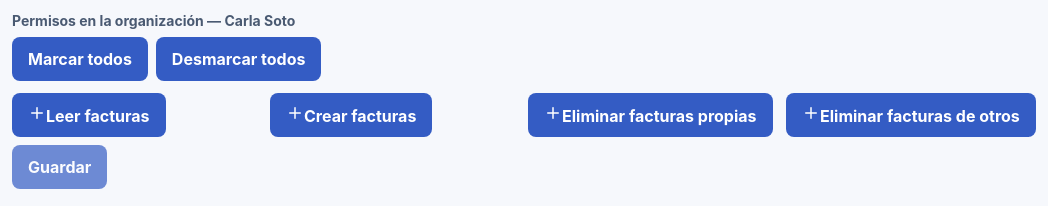
Scenario: MemberPermissionsEditor, saved mode › PUTs the four flags, locks the controls while pending and announces the result
The width and height of the screenshot is (1048, 206).
Click the button "Crear facturas".
click(351, 115)  # box [270, 93, 432, 137]
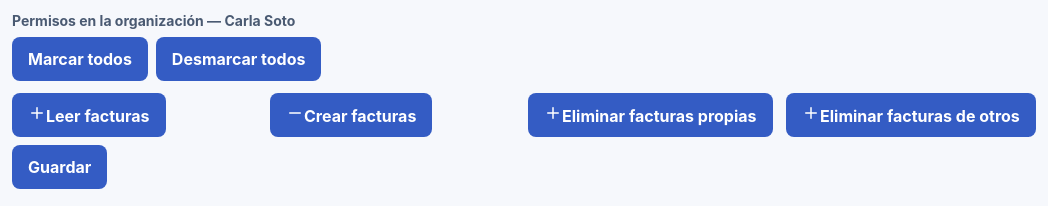
Click the button with aria-label "Guardar permisos de Carla Soto".
click(60, 167)  # box [12, 145, 107, 189]
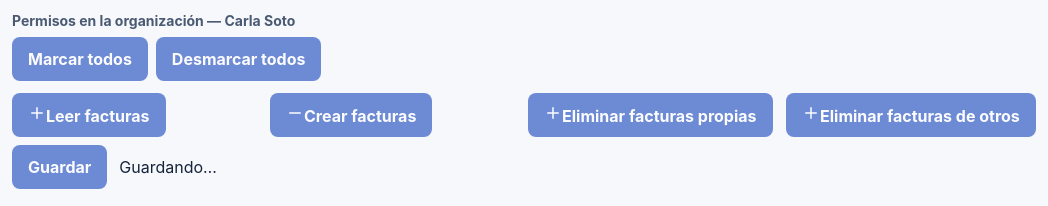
Now the button with aria-label "Guardar permisos de Carla Soto" is disabled
// A second click while pending sends nothing more.
Click the button with aria-label "Guardar permisos de Carla Soto".
click(60, 167)  # box [12, 145, 107, 189]
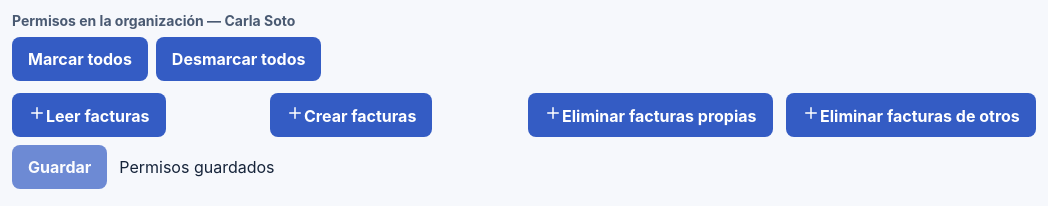
Now the text "Permisos guardados" is shown, box [119, 157, 275, 177]
Now the text "Guardando…" is gone
